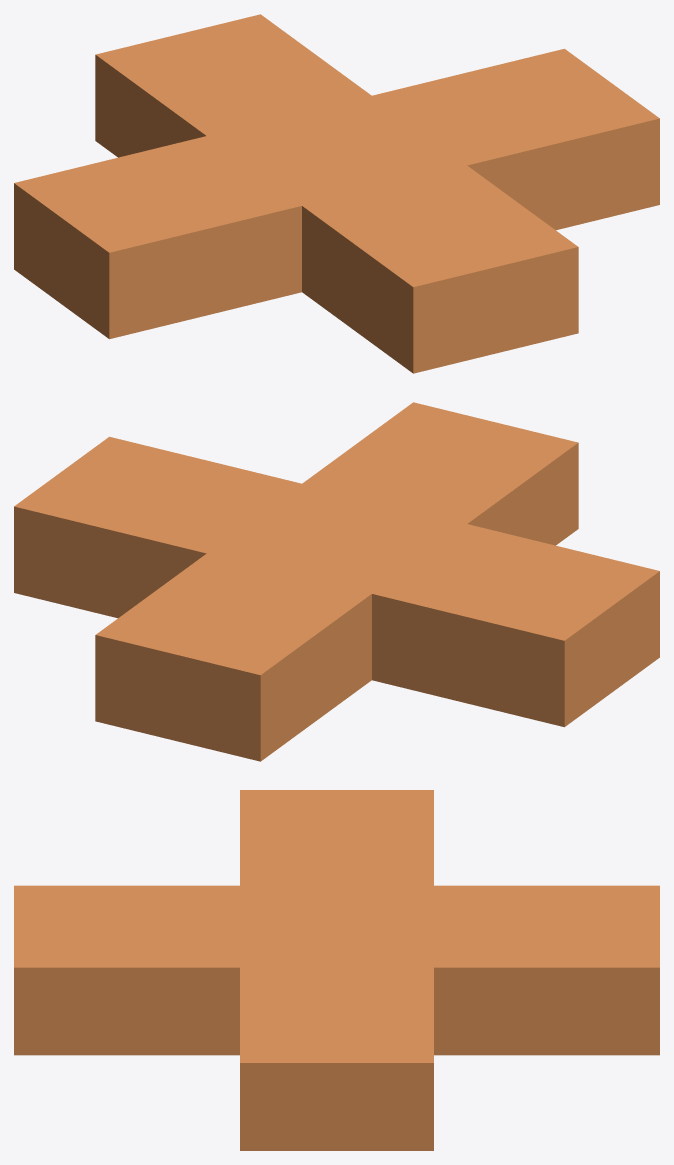
The model's file is starfish.glb.
The picture shows the model from 3 angles, top to bottom: view 1: azimuth 30°, elevation 25°; view 2: azimuth 150°, elevation 25°; view 3: azimuth 270°, elevation 25°; orthographic projection.
Parts seen in each view (by area): view 1: starfish; view 2: starfish; view 3: starfish.
Part boxes in pixels (box(x1,y1,x2,y2)): starfish: box(14, 14, 659, 373); starfish: box(14, 402, 659, 761); starfish: box(14, 790, 659, 1150).
Bounding box in the file's own units: 0.4 × 0.06 × 0.4.
